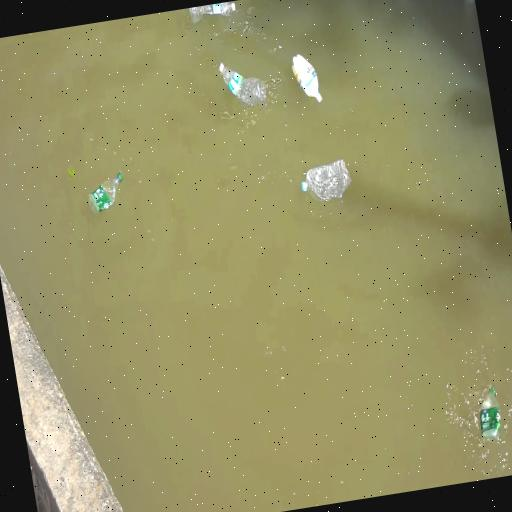plastic: (218, 64, 265, 107), (301, 160, 350, 200), (291, 55, 321, 102), (88, 172, 122, 212), (479, 387, 500, 440), (189, 2, 235, 23)
